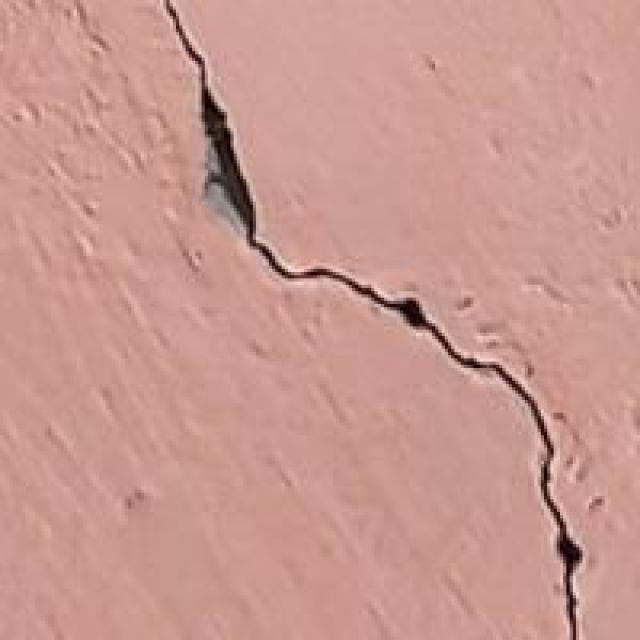crack: (148, 0, 604, 640)
